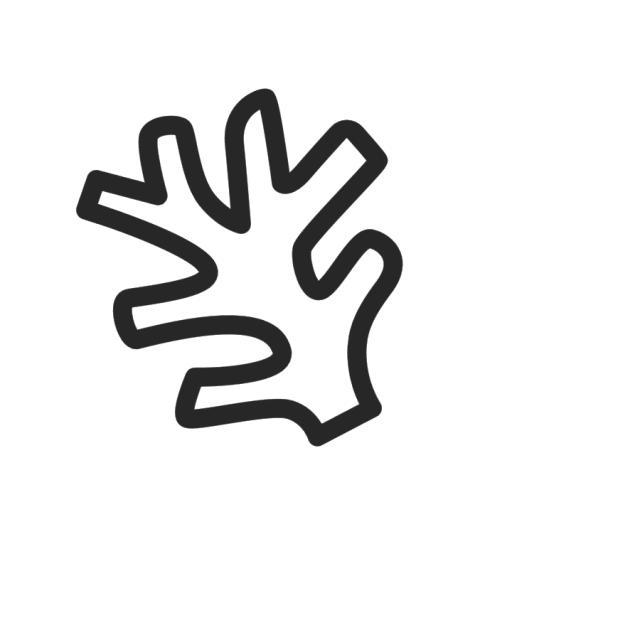coral: (71, 86, 411, 455)
